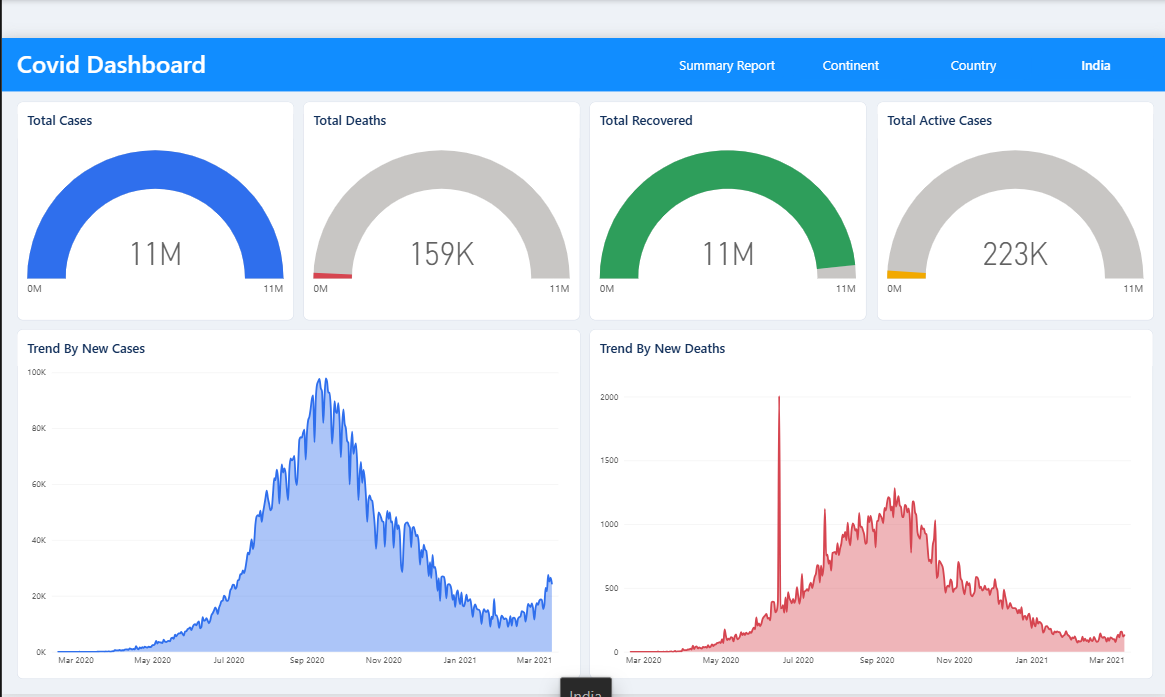

What the dashboard file says about the page in this screenshot:
{"tool":"powerbi","page":{"name":"India","canvas":[1920,1080],"ordinal":3},"visuals":[{"type":"gauge","title":"Total Cases","fields":{"Y":["Sum(Summary Data.total_confirmed)"],"MaxValue":["Sum(Summary Data.total_confirmed)"]},"box":[24,104,456,360],"z":0},{"type":"gauge","title":"Total Deaths","fields":{"MaxValue":["Sum(Summary Data.total_confirmed)"],"Y":["Sum(Summary Data.total_deaths)"]},"box":[496,104,456,360],"z":1000},{"type":"gauge","title":"Total Recovered","fields":{"MaxValue":["Sum(Summary Data.total_confirmed)"],"Y":["Sum(Summary Data.total_recovered)"]},"box":[968,104,456,360],"z":2000},{"type":"gauge","title":"Total Active Cases","fields":{"MaxValue":["Sum(Summary Data.total_confirmed)"],"Y":["Sum(Summary Data.active_cases)"]},"box":[1440,104,456,360],"z":3000},{"type":"areaChart","title":"Trend By New Cases","fields":{"Y":["Sum(Daily Data.daily_new_cases)"],"Category":["Daily Data.date"]},"box":[24,480,928,576],"z":4000},{"type":"areaChart","title":"Trend By New Deaths","fields":{"Category":["Daily Data.date"],"Y":["Sum(Daily Data.daily_new_deaths)"]},"box":[968,480,928,576],"z":5000},{"type":"shape","box":[0,0,1920,88],"z":20000},{"type":"textbox","box":[24,14,900,60],"z":21000},{"type":"shape","box":[1100,20,190,48],"z":22000},{"type":"shape","box":[1302,20,190,48],"z":23000},{"type":"shape","box":[1504,20,190,48],"z":24000},{"type":"shape","box":[1706,20,190,48],"z":25000}]}

Visuals, with their boxes on the page's 1920x1080 design canvas (x1, y1, x2, y2). These are canvas units, not pixel positions in the 1165x697 screenshot, which may show the page scaled, cropped or inside an application window:
"Total Cases" gauge: rect(24, 104, 480, 464)
"Total Deaths" gauge: rect(496, 104, 952, 464)
"Total Recovered" gauge: rect(968, 104, 1424, 464)
"Total Active Cases" gauge: rect(1440, 104, 1896, 464)
"Trend By New Cases" areaChart: rect(24, 480, 952, 1056)
"Trend By New Deaths" areaChart: rect(968, 480, 1896, 1056)
shape: rect(0, 0, 1920, 88)
textbox: rect(24, 14, 924, 74)
shape: rect(1100, 20, 1290, 68)
shape: rect(1302, 20, 1492, 68)
shape: rect(1504, 20, 1694, 68)
shape: rect(1706, 20, 1896, 68)
